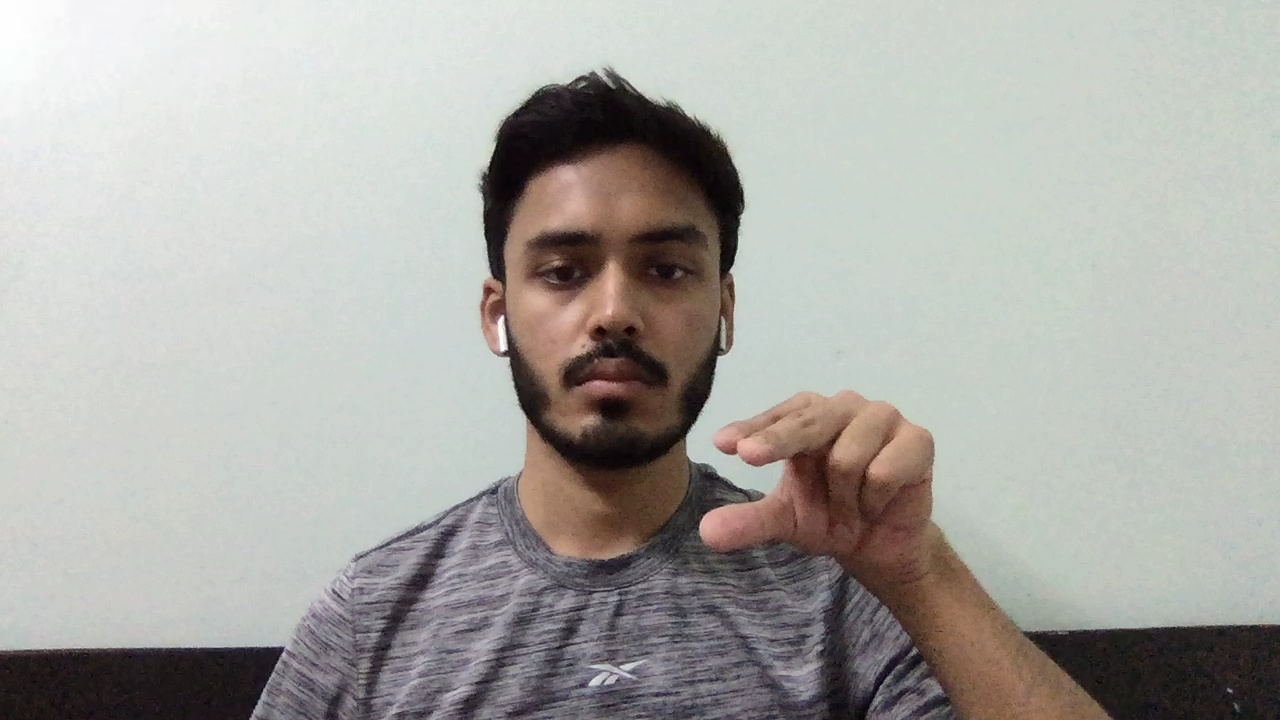No: (691, 382, 973, 568)
